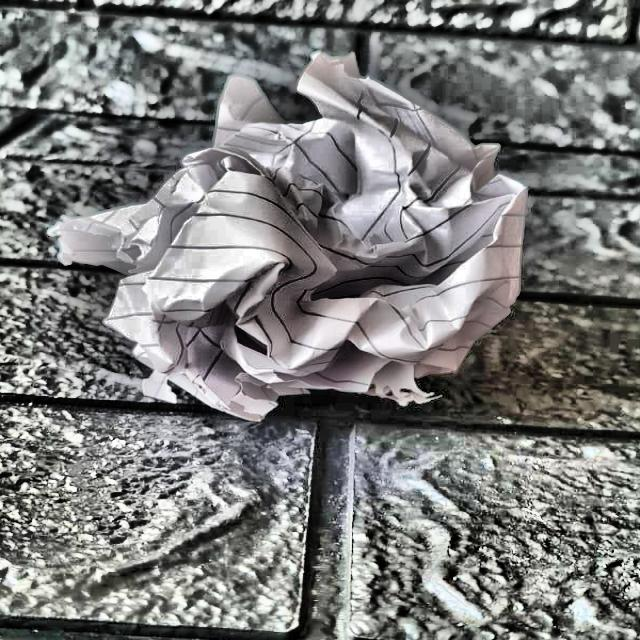paper: (78, 59, 556, 411)
